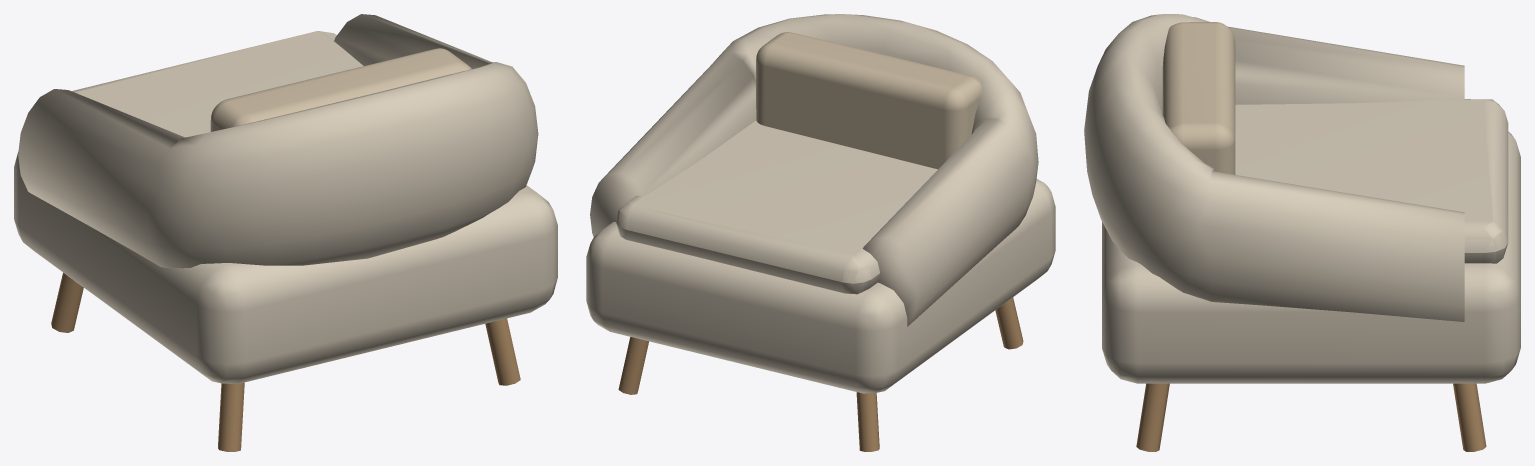
The model's file is linen-lounge-chair-light.glb.
3 views of the same model, side by side, from view 1: azimuth 30°, elevation 25°; view 2: azimuth 150°, elevation 25°; view 3: azimuth 270°, elevation 25° (orthographic). The views are drawn at different scales.
Parts seen in each view (by area): view 1: Mood linen ivory, Mood linen oat, Mood oak board; view 2: Mood linen ivory, Mood linen oat, Mood oak board; view 3: Mood linen ivory, Mood linen oat, Mood oak board.
Boxes of the visible parts, x1,y1,x2,y2 form: Mood linen ivory: (14,14,557,384); Mood linen oat: (210,48,471,131); Mood oak board: (51,272,520,451); Mood linen ivory: (586,14,1055,393); Mood linen oat: (756,32,982,169); Mood oak board: (618,297,1023,451); Mood linen ivory: (1084,14,1520,383); Mood linen oat: (1162,22,1235,174); Mood oak board: (1136,383,1486,451).
Bounding box in the file's own units: 0.8402 × 0.7042 × 0.855.
